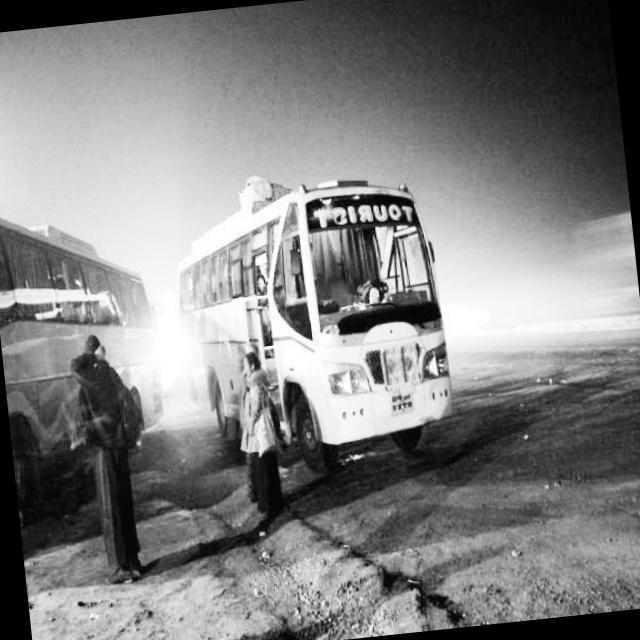Bus: (160, 145, 465, 490), (0, 193, 182, 590)
